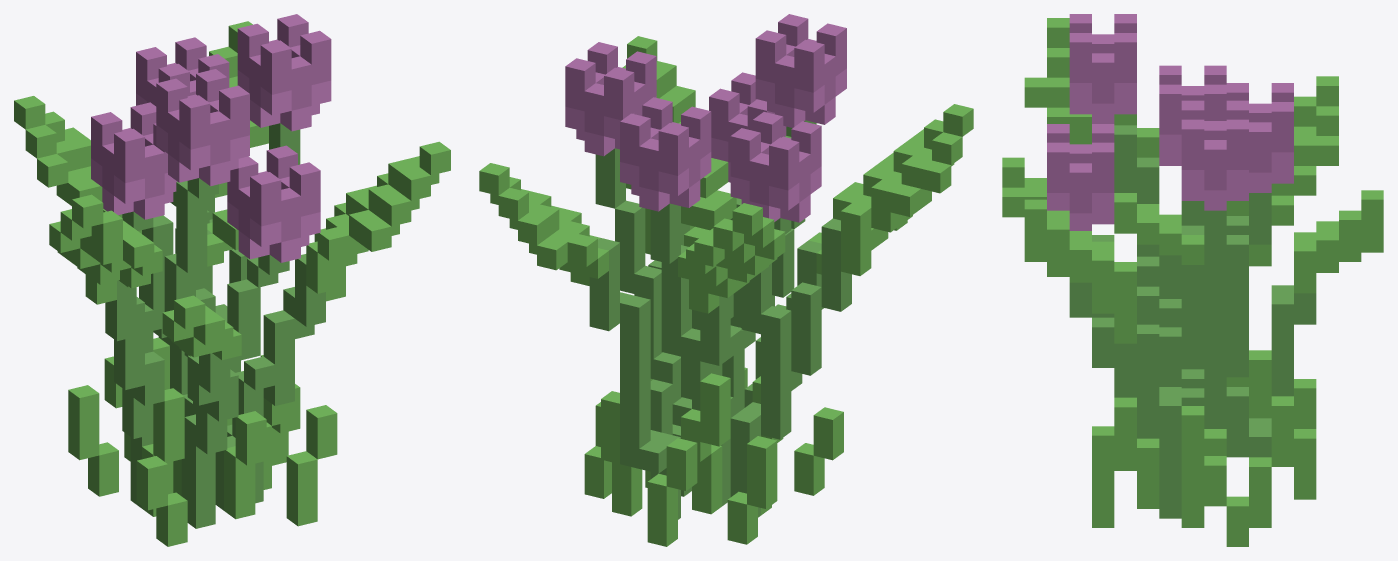
The model's file is Grass_g_v1.fbx.
The picture shows the model from 3 angles, left to right: view 1: azimuth 30°, elevation 25°; view 2: azimuth 150°, elevation 25°; view 3: azimuth 270°, elevation 25°; orthographic projection. The views are drawn at different scales.
Visible parts, largest first — view 1: grass_g; view 2: grass_g; view 3: grass_g.
Part boxes in pixels (x1,y1,x2,y2): grass_g: (14,14,450,546); grass_g: (479,14,973,546); grass_g: (1002,14,1383,546).
Bounding box in the file's own units: 18 × 22 × 17.
